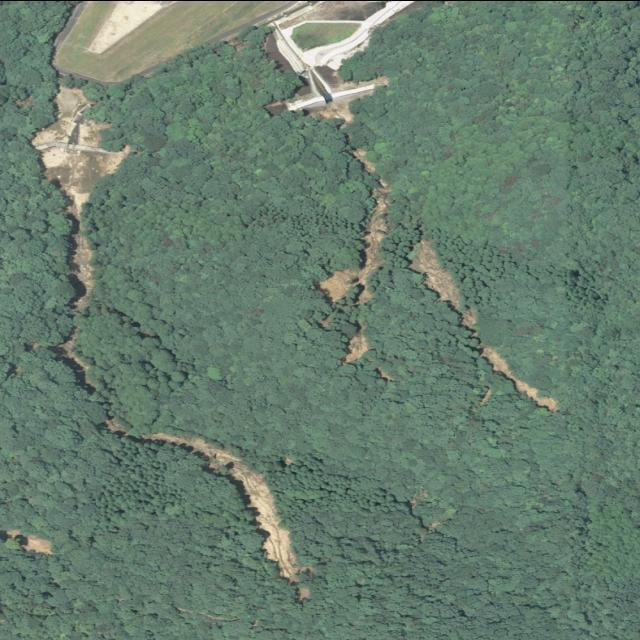landslide: (141, 432, 299, 584), (31, 85, 131, 312), (317, 178, 391, 304), (479, 343, 560, 412), (409, 239, 459, 309)
